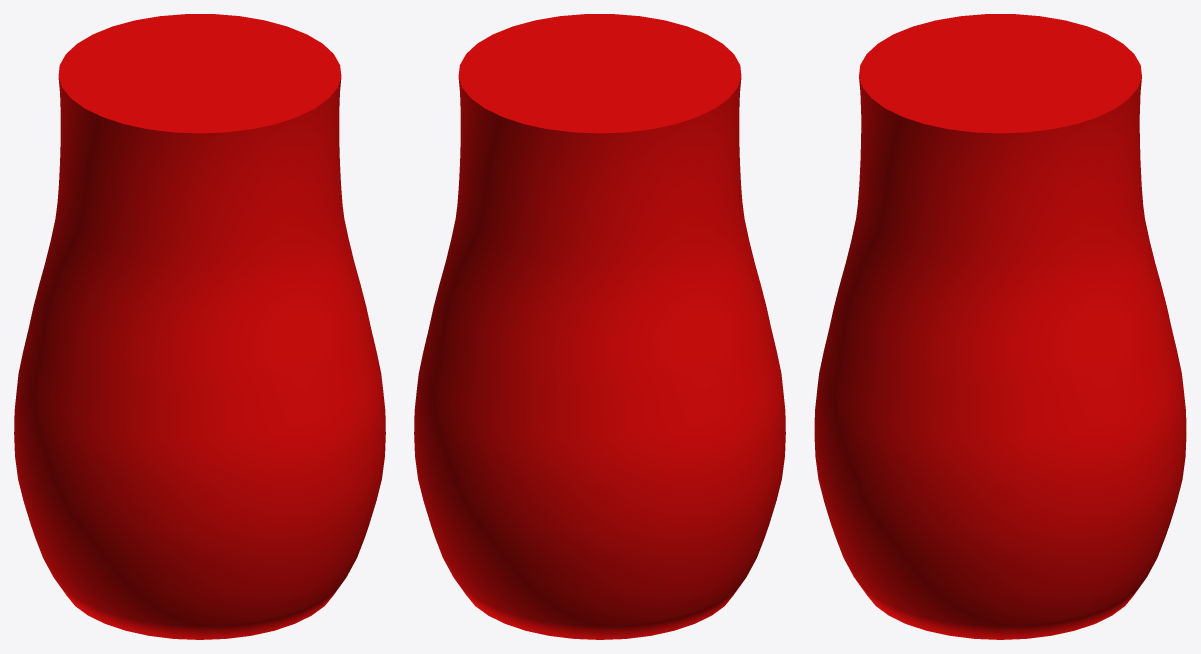
Rendered from Liquid.fbx.
3 renders of one model, left to right at view 1: azimuth 30°, elevation 25°; view 2: azimuth 150°, elevation 25°; view 3: azimuth 270°, elevation 25°, orthographic.
Parts seen in each view (by area): view 1: Liquid2; view 2: Liquid2; view 3: Liquid2.
Boxes of the visible parts, left/top/right/bottom form: Liquid2: left=14, top=14, right=385, bottom=639; Liquid2: left=414, top=14, right=785, bottom=639; Liquid2: left=814, top=14, right=1186, bottom=639.
Bounding box in the file's own units: 0.9076 × 1.37 × 0.9086.
